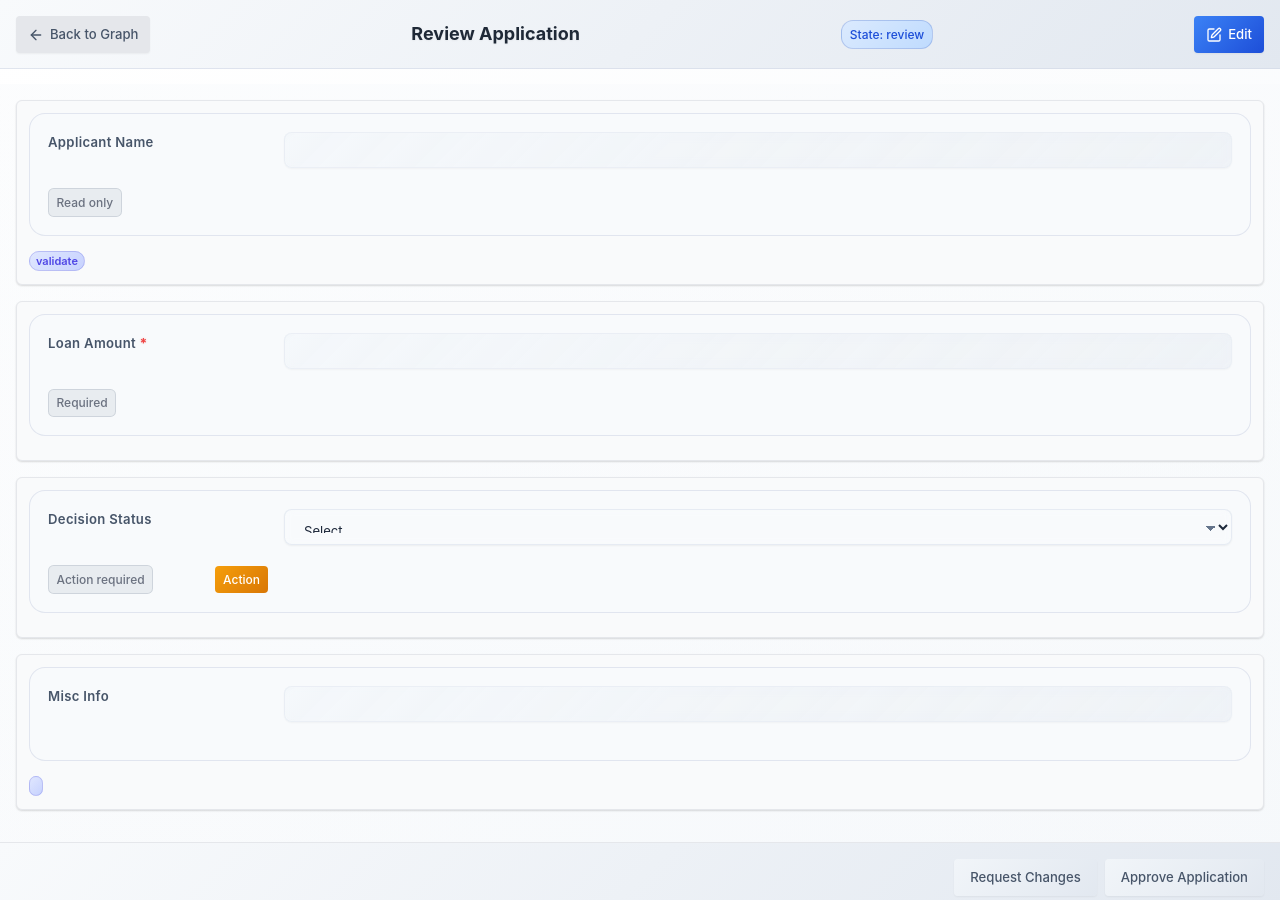
Scenario: FormViewer › displays required status cues and updates them when values change
Check: the text "Required" is shown, box [48, 389, 116, 417]
Step 1. Click the button "Edit" → (1229, 34), box [1194, 16, 1264, 53]
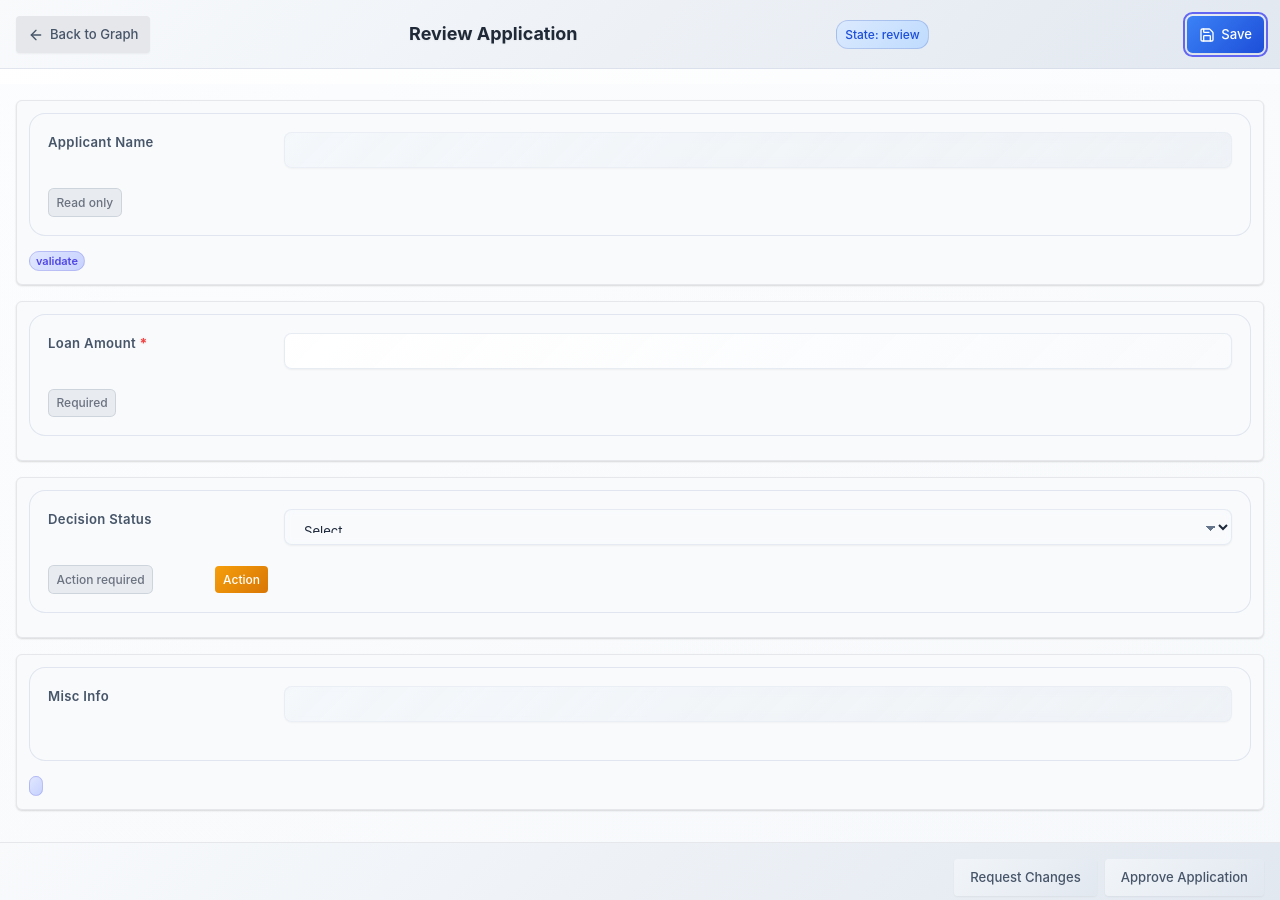
Check: the button "Save" is shown, box [1187, 16, 1264, 53]
Step 2. Type "5000" into the number field → (758, 351), box [284, 333, 1232, 369]
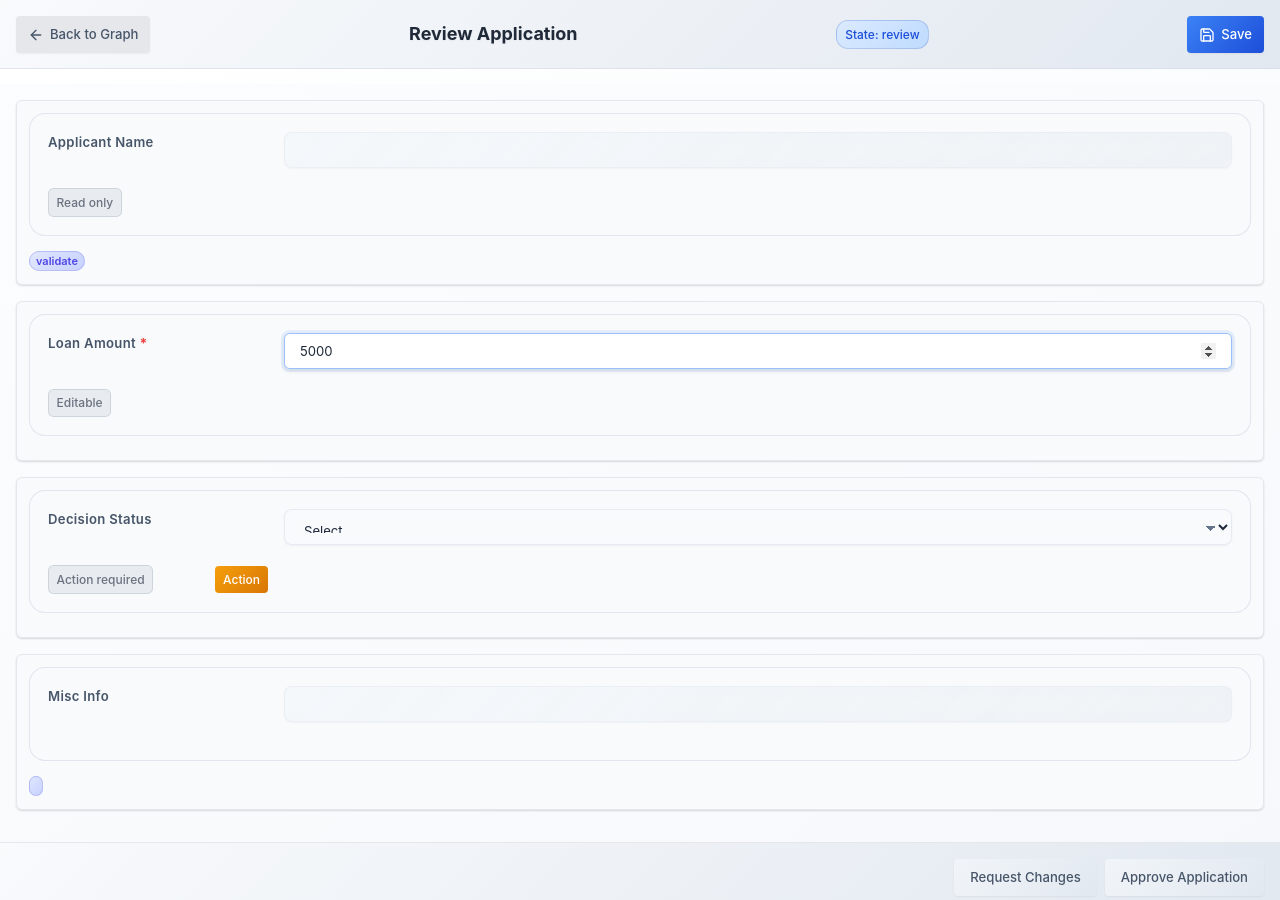
Check: the text "Editable" is shown, box [48, 389, 111, 417]
Step 3. Click the button "Save" → (1226, 34), box [1187, 16, 1264, 53]
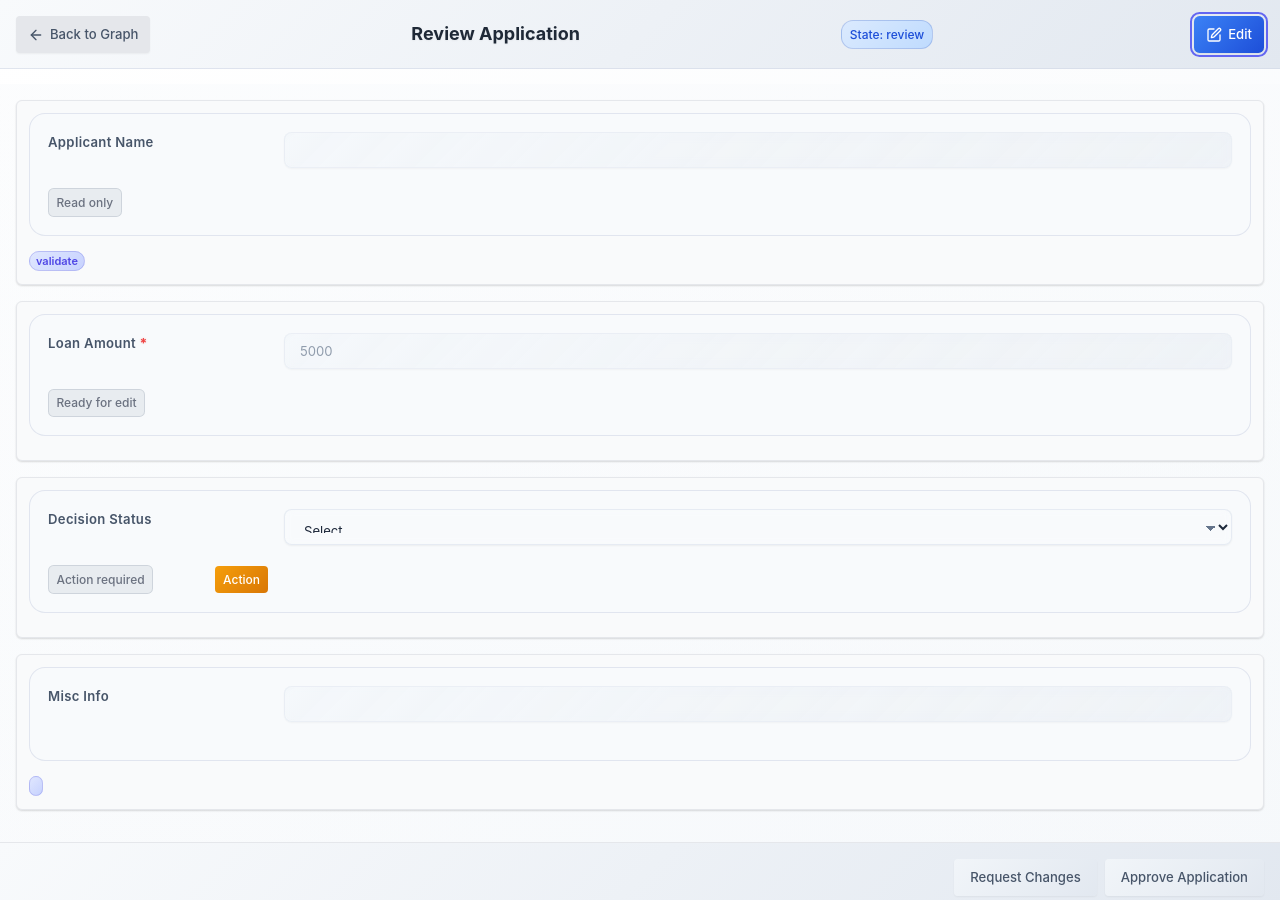
Check: the text "Ready for edit" is shown, box [48, 389, 145, 417]
